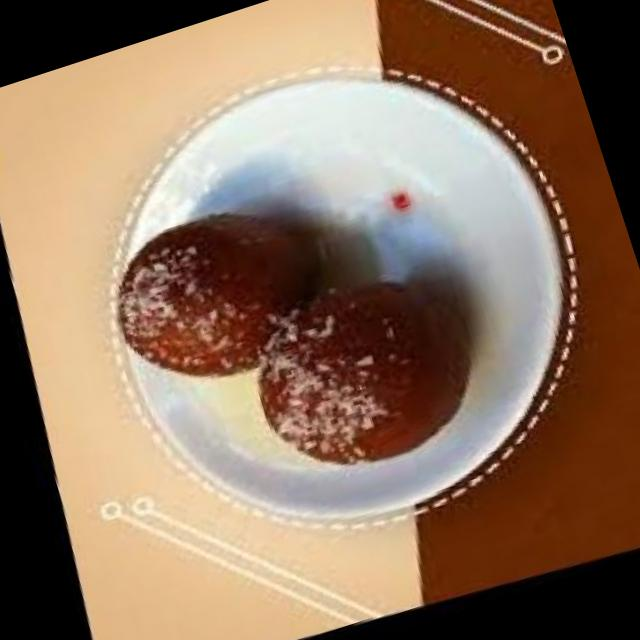gulab_jamun: (227, 256, 498, 500), (86, 188, 351, 415)
